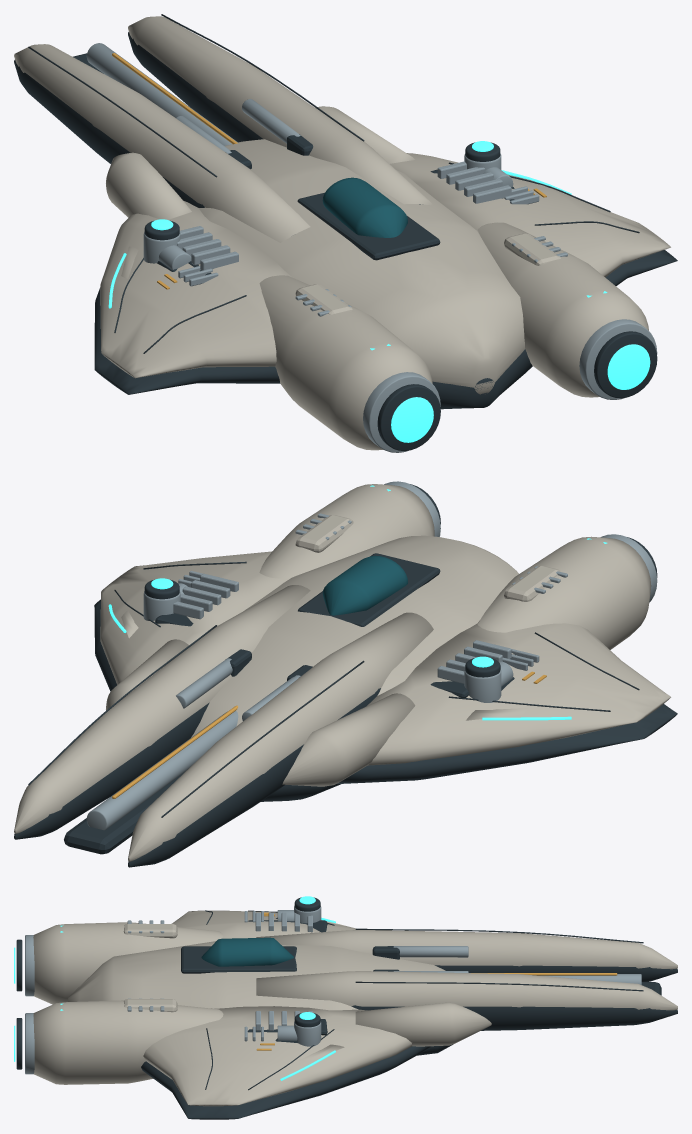
The model's file is siege-2.glb.
3 renders of one model, top to bottom at view 1: azimuth 30°, elevation 25°; view 2: azimuth 150°, elevation 25°; view 3: azimuth 270°, elevation 25°, orthographic. The views are drawn at different scales.
Parts seen in each view (by area): view 1: SM_Hull, SM_Wing_Left, SM_Engine_Left, SM_Engine_Right, SM_Wing_Right, SM_Weapon_Right, SM_Stage03, SM_Stage04, SM_Stage01; view 2: SM_Hull, SM_Wing_Left, SM_Engine_Left, SM_Wing_Right, SM_Engine_Right, SM_Weapon_Right, SM_Stage03, SM_Stage04, SM_Stage02, SM_Weapon_Left; view 3: SM_Hull, SM_Wing_Right, SM_Engine_Right, SM_Engine_Left, SM_Wing_Left, SM_Stage03, SM_Stage04, SM_Weapon_Right, SM_Weapon_Left, SM_Stage01.
Boxes of the visible parts, box(x1,y1,x2,y2) form: SM_Hull: box(14, 14, 532, 409); SM_Wing_Left: box(94, 200, 296, 394); SM_Engine_Left: box(259, 275, 440, 452); SM_Engine_Right: box(477, 222, 657, 399); SM_Wing_Right: box(390, 153, 677, 285); SM_Weapon_Right: box(73, 43, 313, 155); SM_Stage03: box(178, 186, 560, 314); SM_Stage04: box(143, 141, 501, 263); SM_Stage01: box(157, 167, 514, 271); SM_Hull: box(14, 535, 518, 867); SM_Wing_Left: box(337, 620, 677, 783); SM_Engine_Left: box(477, 534, 657, 649); SM_Wing_Right: box(94, 551, 292, 691); SM_Engine_Right: box(259, 481, 440, 578); SM_Weapon_Right: box(64, 649, 251, 854); SM_Stage03: box(178, 515, 560, 670); SM_Stage04: box(143, 578, 501, 702); SM_Stage02: box(121, 610, 527, 720); SM_Weapon_Left: box(242, 665, 312, 720); SM_Hull: box(68, 912, 677, 1055); SM_Wing_Right: box(141, 1006, 431, 1119); SM_Engine_Right: box(14, 998, 223, 1084); SM_Engine_Left: box(14, 920, 223, 1004); SM_Wing_Left: box(171, 910, 355, 938); SM_Stage03: box(123, 911, 263, 1041); SM_Stage04: box(294, 896, 321, 1046); SM_Weapon_Right: box(373, 969, 661, 995); SM_Weapon_Left: box(372, 946, 468, 959); SM_Stage01: box(275, 910, 297, 1042).
Bounding box in the file's own units: 6.85 × 1.73 × 9.7.
